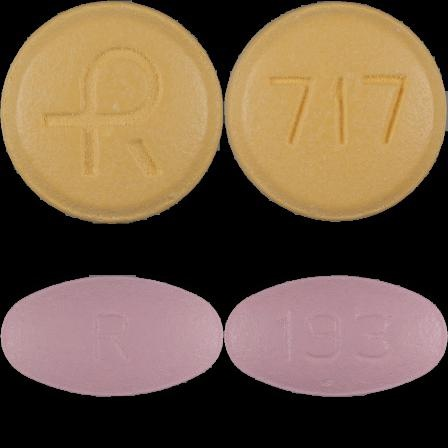63629-3941: (0, 0, 224, 224)
